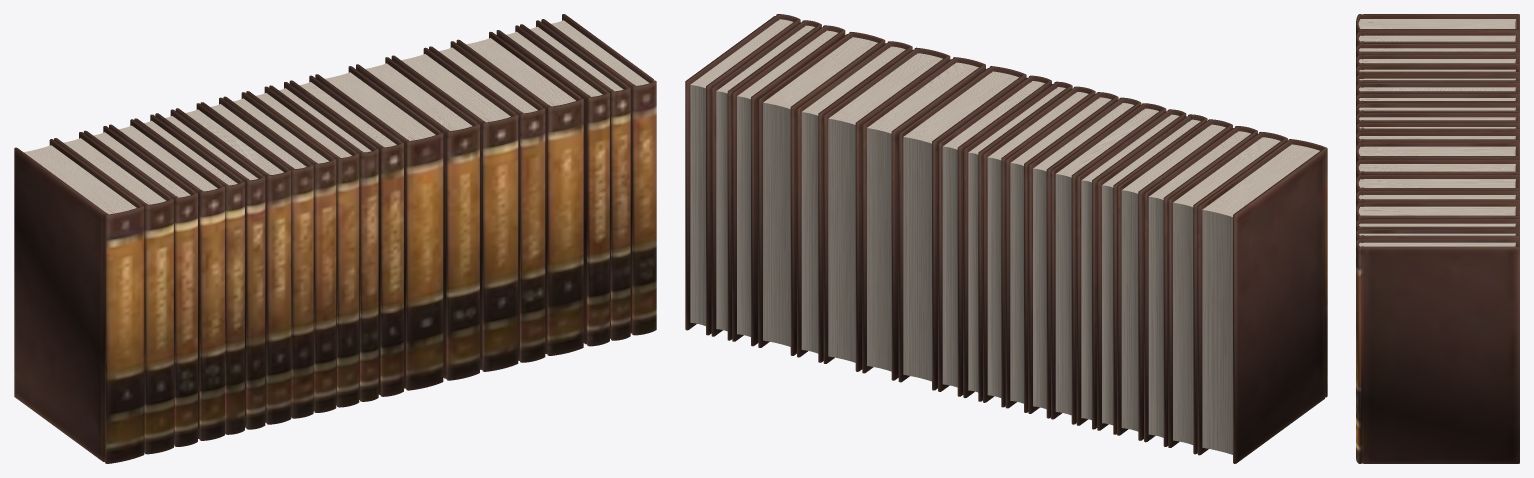
File: book_encyclopedia_set_01.glb
3 renders of one model, left to right at view 1: azimuth 30°, elevation 25°; view 2: azimuth 150°, elevation 25°; view 3: azimuth 270°, elevation 25°, orthographic. The views are drawn at different scales.
Parts seen in each view (by area): view 1: book_encyclopedia_set_01_book01; view 2: book_encyclopedia_set_01_book01; view 3: book_encyclopedia_set_01_book01.
Boxes of the visible parts, left/top/right/bottom form: book_encyclopedia_set_01_book01: left=14, top=14, right=656, bottom=463; book_encyclopedia_set_01_book01: left=685, top=14, right=1327, bottom=463; book_encyclopedia_set_01_book01: left=1356, top=14, right=1519, bottom=463.
Size of the model in its own units: 0.5513 by 0.2374 by 0.1631.
Materials: 2 (2 with a texture image).
